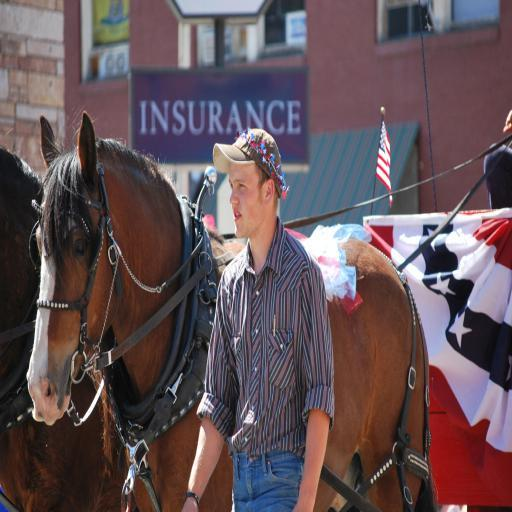Horse: (24, 108, 429, 511), (1, 147, 139, 509)
